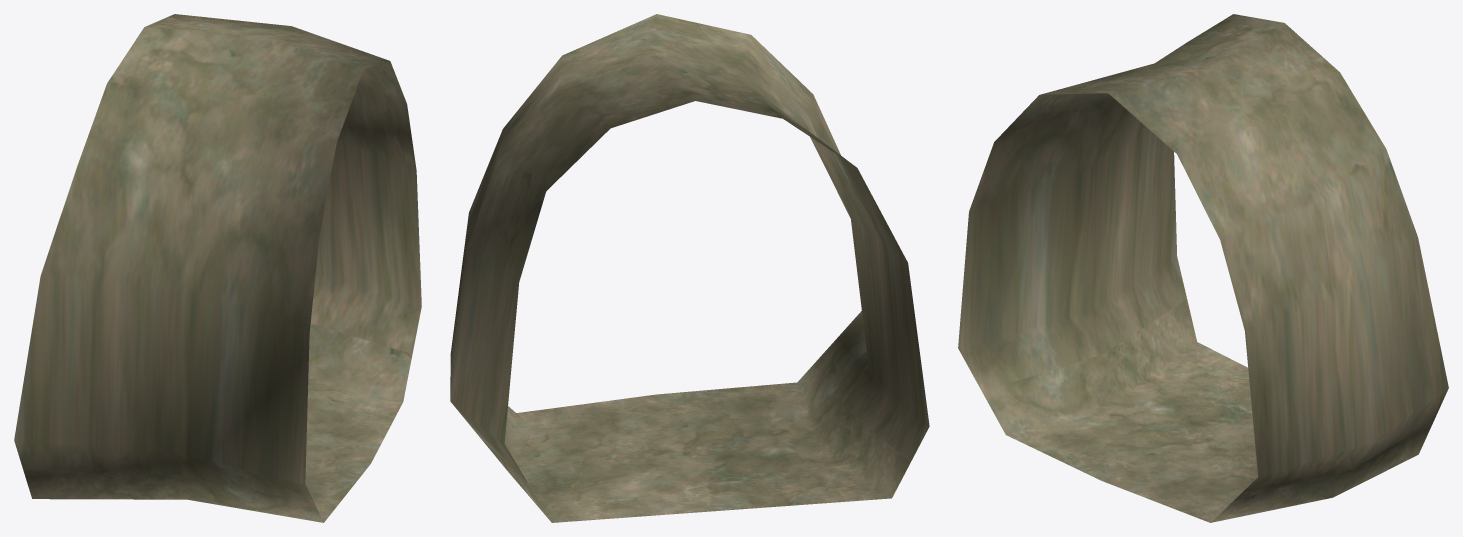
Rendered from OVERHILL_A_01_OBJECT57.fbx.
3 renders of one model, left to right at view 1: azimuth 30°, elevation 25°; view 2: azimuth 150°, elevation 25°; view 3: azimuth 270°, elevation 25°, orthographic. The views are drawn at different scales.
Parts seen in each view (by area): view 1: OVERHILL_A_01_OBJECT57; view 2: OVERHILL_A_01_OBJECT57; view 3: OVERHILL_A_01_OBJECT57.
Boxes of the visible parts, box(x1,y1,x2,y2) form: OVERHILL_A_01_OBJECT57: box(14, 14, 421, 522); OVERHILL_A_01_OBJECT57: box(450, 14, 929, 522); OVERHILL_A_01_OBJECT57: box(958, 14, 1448, 522).
Bounding box in the file's own units: 27341 × 23343 × 26354.
1 material, 1 textured.
